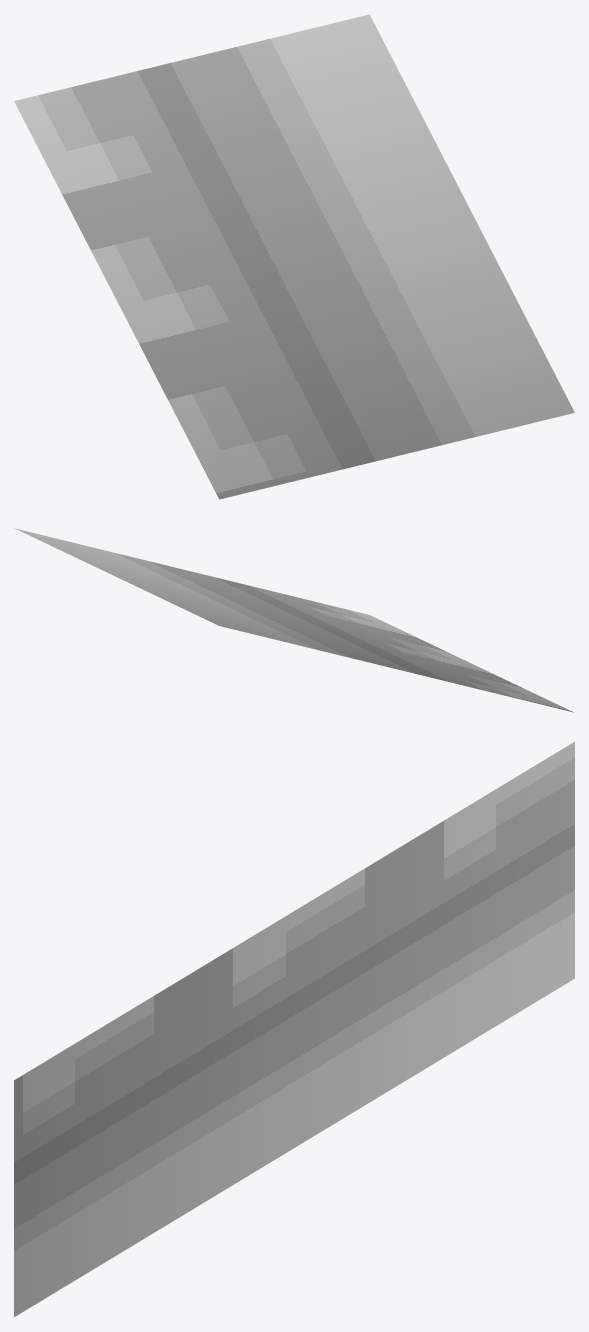
3 renders of one model, top to bottom at view 1: azimuth 30°, elevation 25°; view 2: azimuth 150°, elevation 25°; view 3: azimuth 270°, elevation 25°, orthographic. The views are drawn at different scales.
Size of the model in its own units: 1 by 0.6667 by 1.
1 material, 1 textured.
